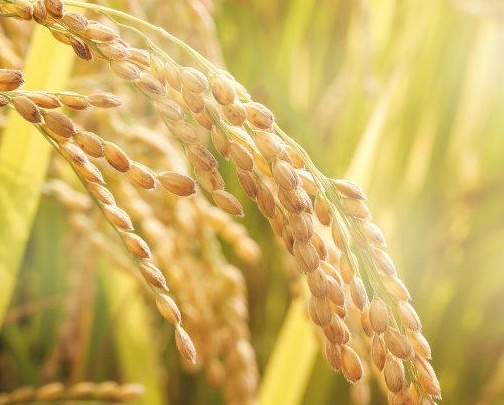rice: (3, 1, 431, 402)
